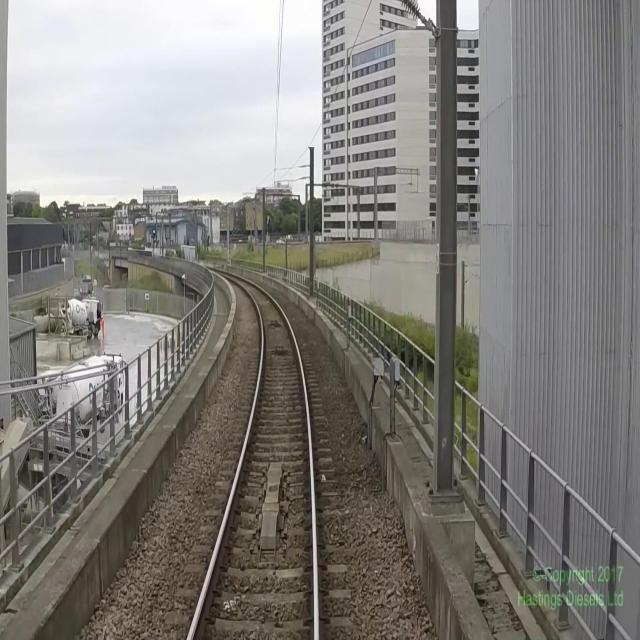rail-track: (191, 270, 313, 639)
